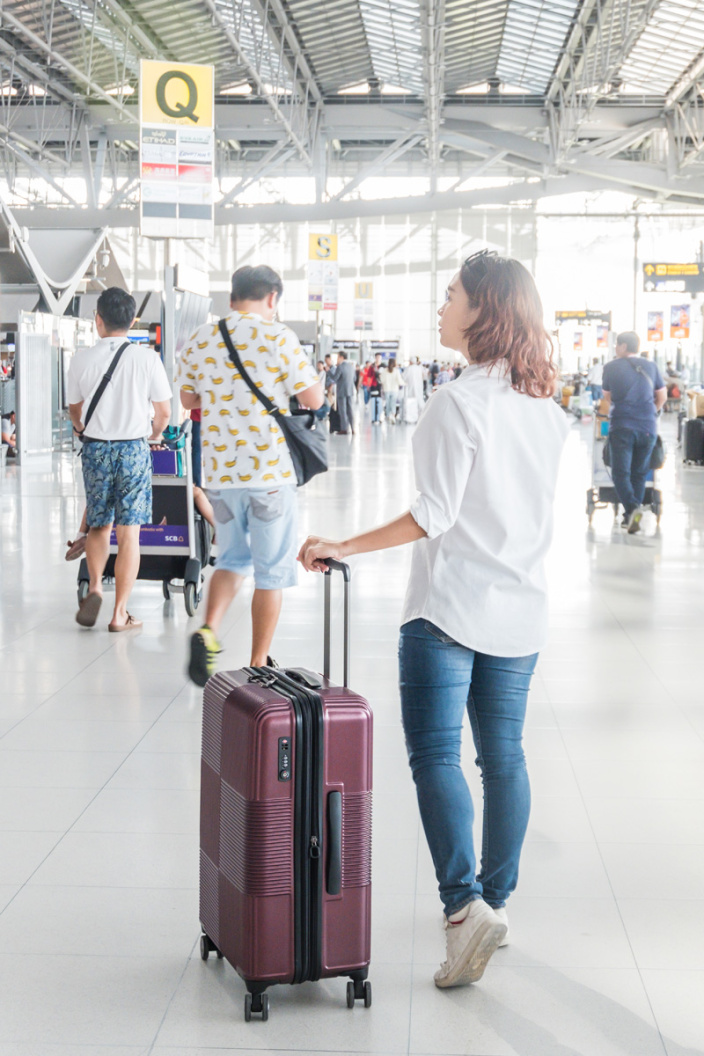bag: (215, 315, 337, 488)
luggage: (187, 540, 386, 1031)
people: (295, 240, 575, 1007), (180, 251, 325, 691), (55, 292, 177, 643), (586, 328, 676, 542)
